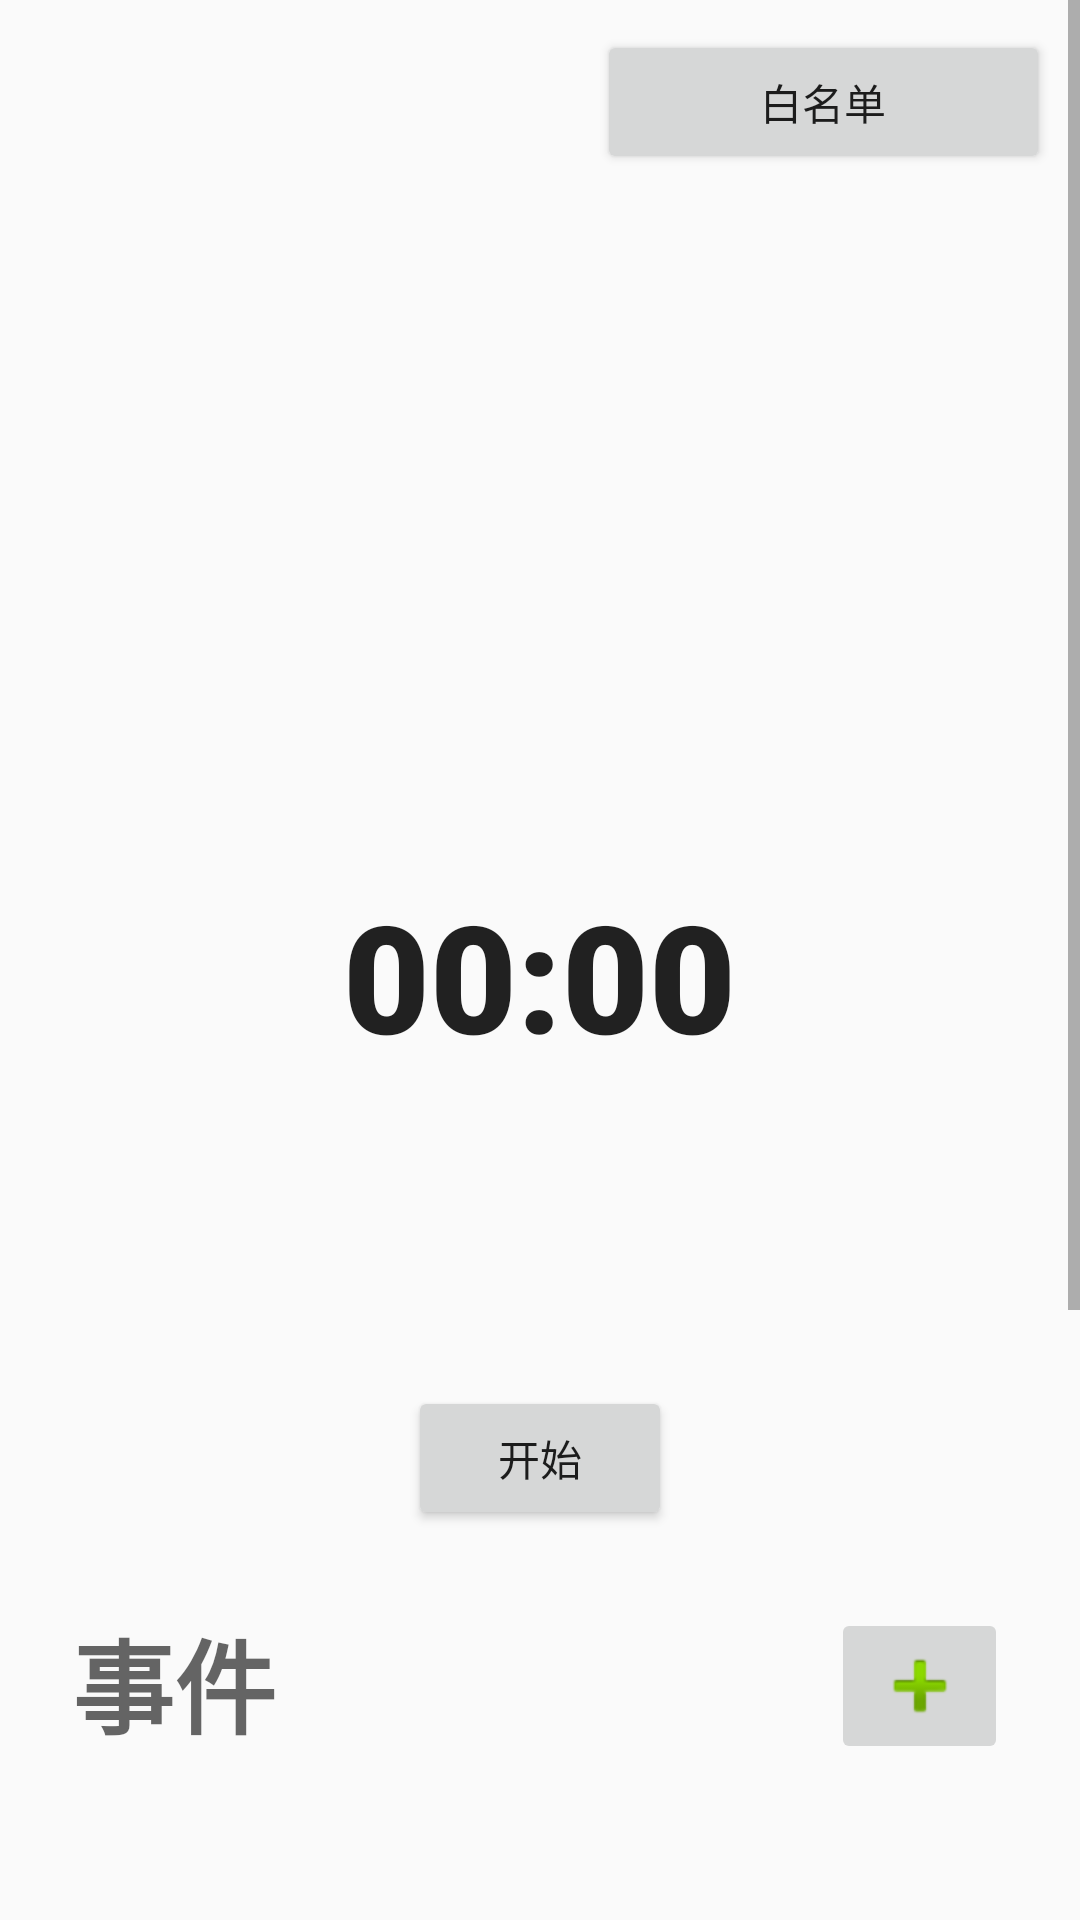

Point at icon controls on the screen. Image size 1080*1920, points as point (x, y).
add: point (919, 1686)
